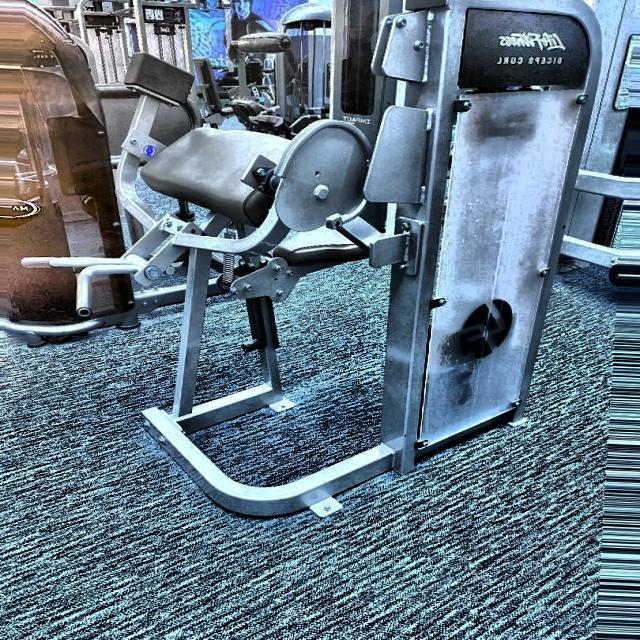bicep_curl_machine: (2, 0, 388, 532), (484, 52, 569, 73)
